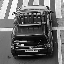motor: (13, 9, 49, 56)
